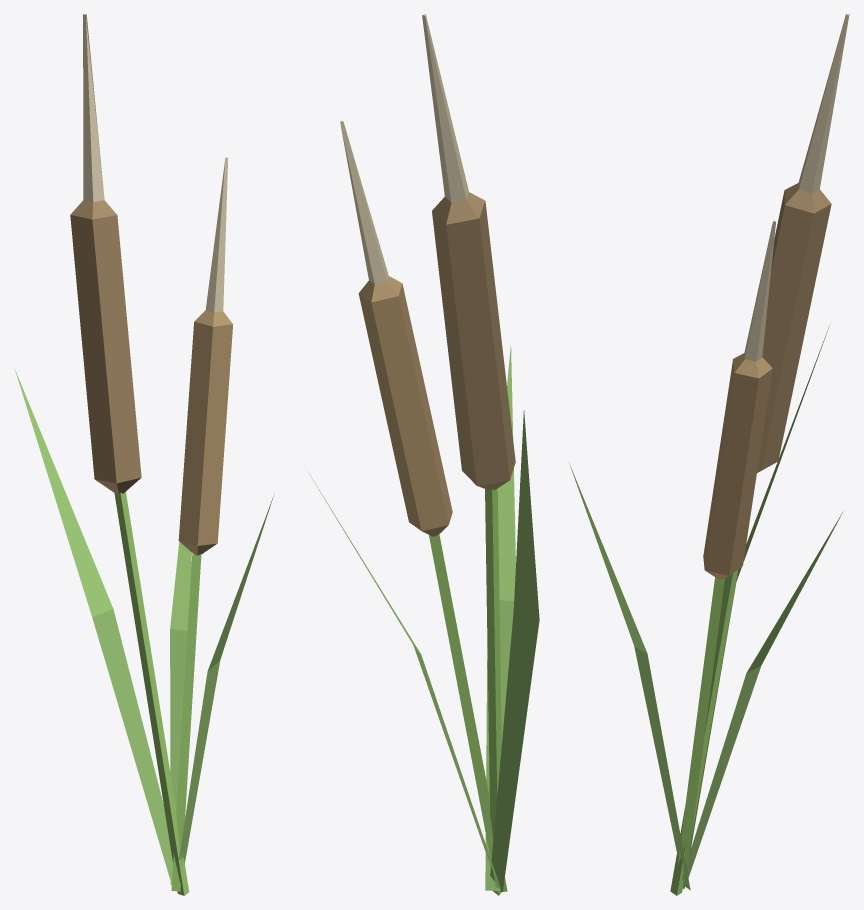
File: Reed_a_02.fbx
3 renders of one model, left to right at view 1: azimuth 30°, elevation 25°; view 2: azimuth 150°, elevation 25°; view 3: azimuth 270°, elevation 25°, orthographic. The views are drawn at different scales.
Visible parts, largest first — view 1: Reed_a_02; view 2: Reed_a_02; view 3: Reed_a_02.
Boxes of the visible parts, x1,y1,x2,y2 form: Reed_a_02: (14, 14, 274, 895); Reed_a_02: (307, 14, 539, 895); Reed_a_02: (569, 14, 849, 895).
Size of the model in its own units: 25.91 by 110 by 32.1.
